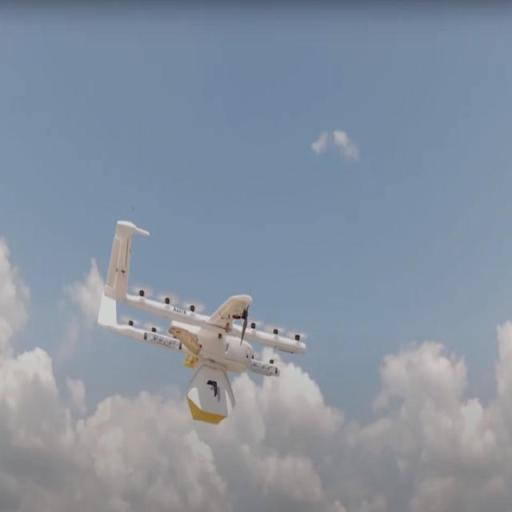uav: (95, 210, 317, 400)
